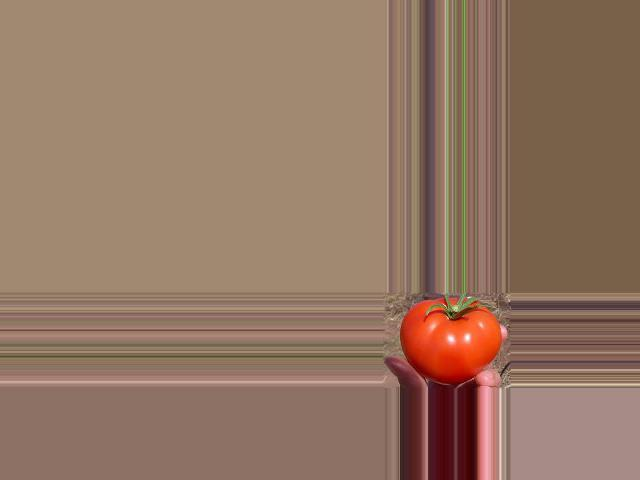tomato: (402, 298, 501, 384)
